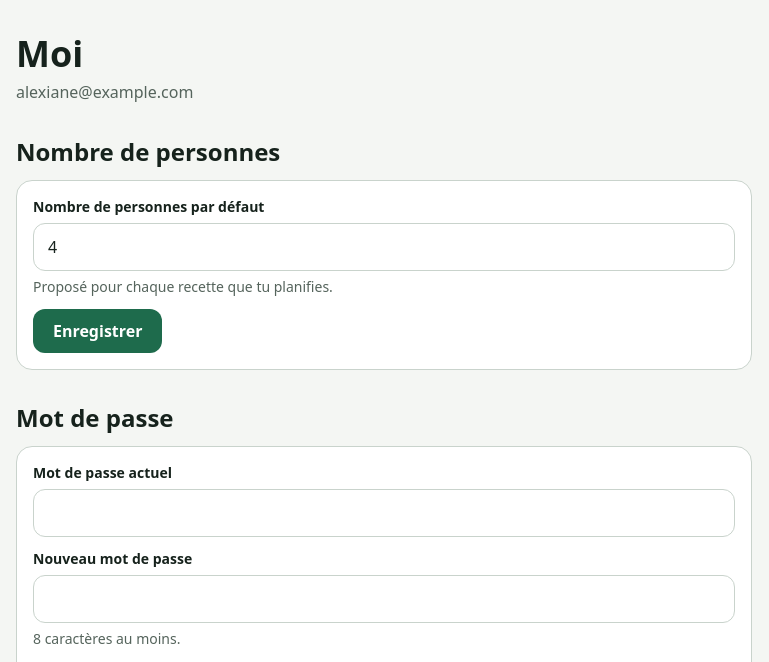
réglages du compte › dit que le mot de passe actuel est incorrect
Step 1. Type "mauvais" into the password field labelled "Mot de passe actuel" → (384, 513), box top-left (33, 489), bottom-right (735, 537)
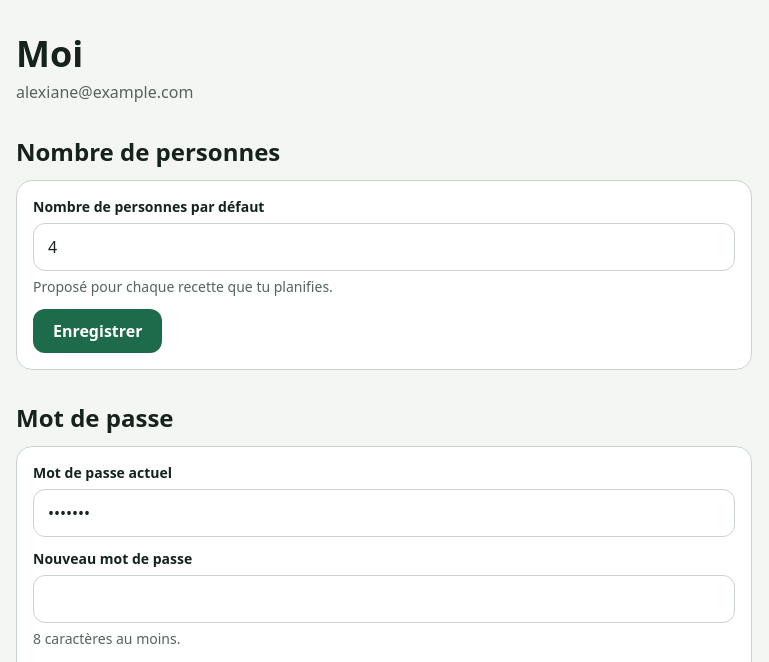
Step 2. Type "nouveau-mdp-123" into the password field labelled "Nouveau mot de passe" → (384, 599), box top-left (33, 575), bottom-right (735, 623)
(page scrolled)
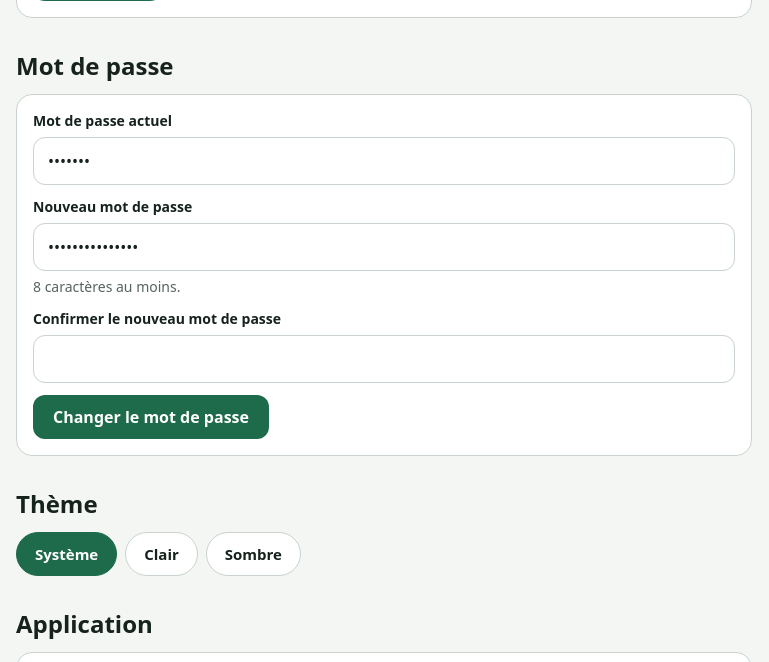
Step 3. Type "nouveau-mdp-123" into the password field labelled "Confirmer le nouveau mot de passe" → (384, 359), box top-left (33, 335), bottom-right (735, 383)
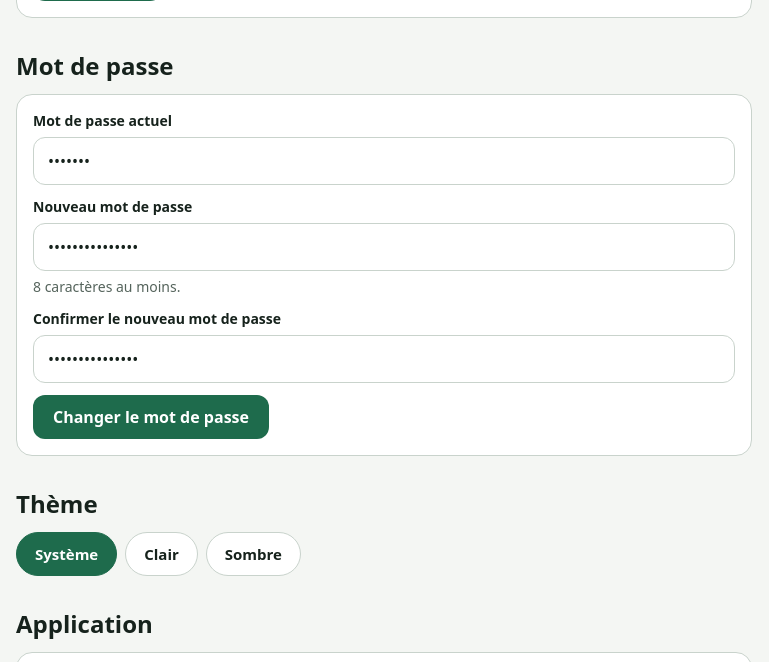
Step 4. Submit the form that starts with "Mot de passe actuel", box top-left (16, 94), bottom-right (752, 456)
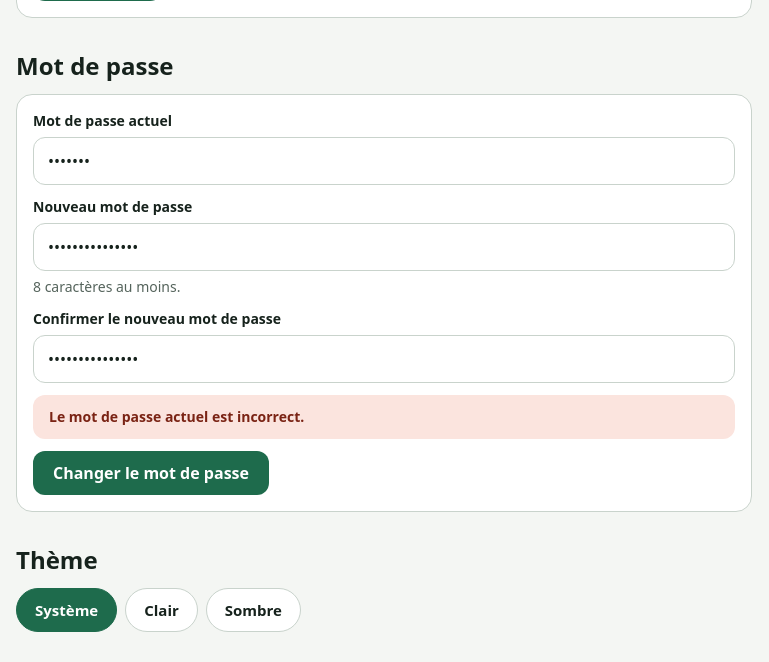
Expected: the message "Le mot de passe actuel est incorrect." is shown, top-left (33, 395), bottom-right (735, 439)
